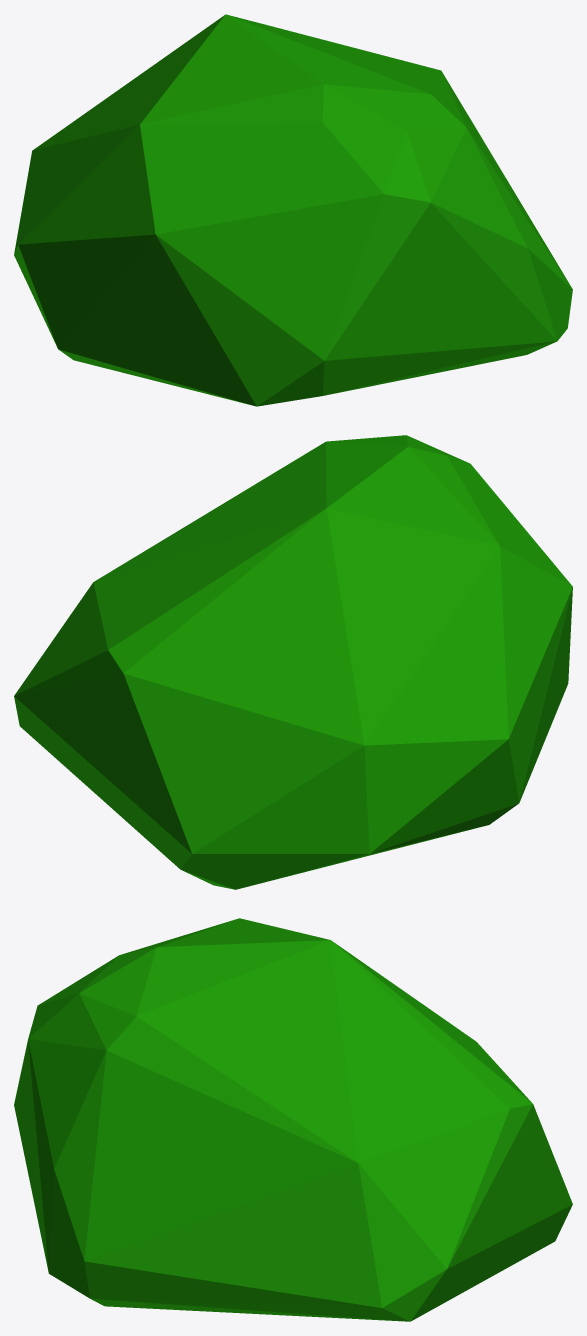
Rendered from bush-3.glb.
3 views of the same model, one above another, from view 1: azimuth 30°, elevation 25°; view 2: azimuth 150°, elevation 25°; view 3: azimuth 270°, elevation 25° (orthographic). The views are drawn at different scales.
Visible parts, largest first — view 1: Bush 3; view 2: Bush 3; view 3: Bush 3.
Part boxes in pixels (bbox=[...]): Bush 3: bbox=[14, 14, 572, 406]; Bush 3: bbox=[14, 435, 572, 889]; Bush 3: bbox=[14, 918, 572, 1321].
Size of the model in its own units: 3.73 by 2.38 by 3.86.
